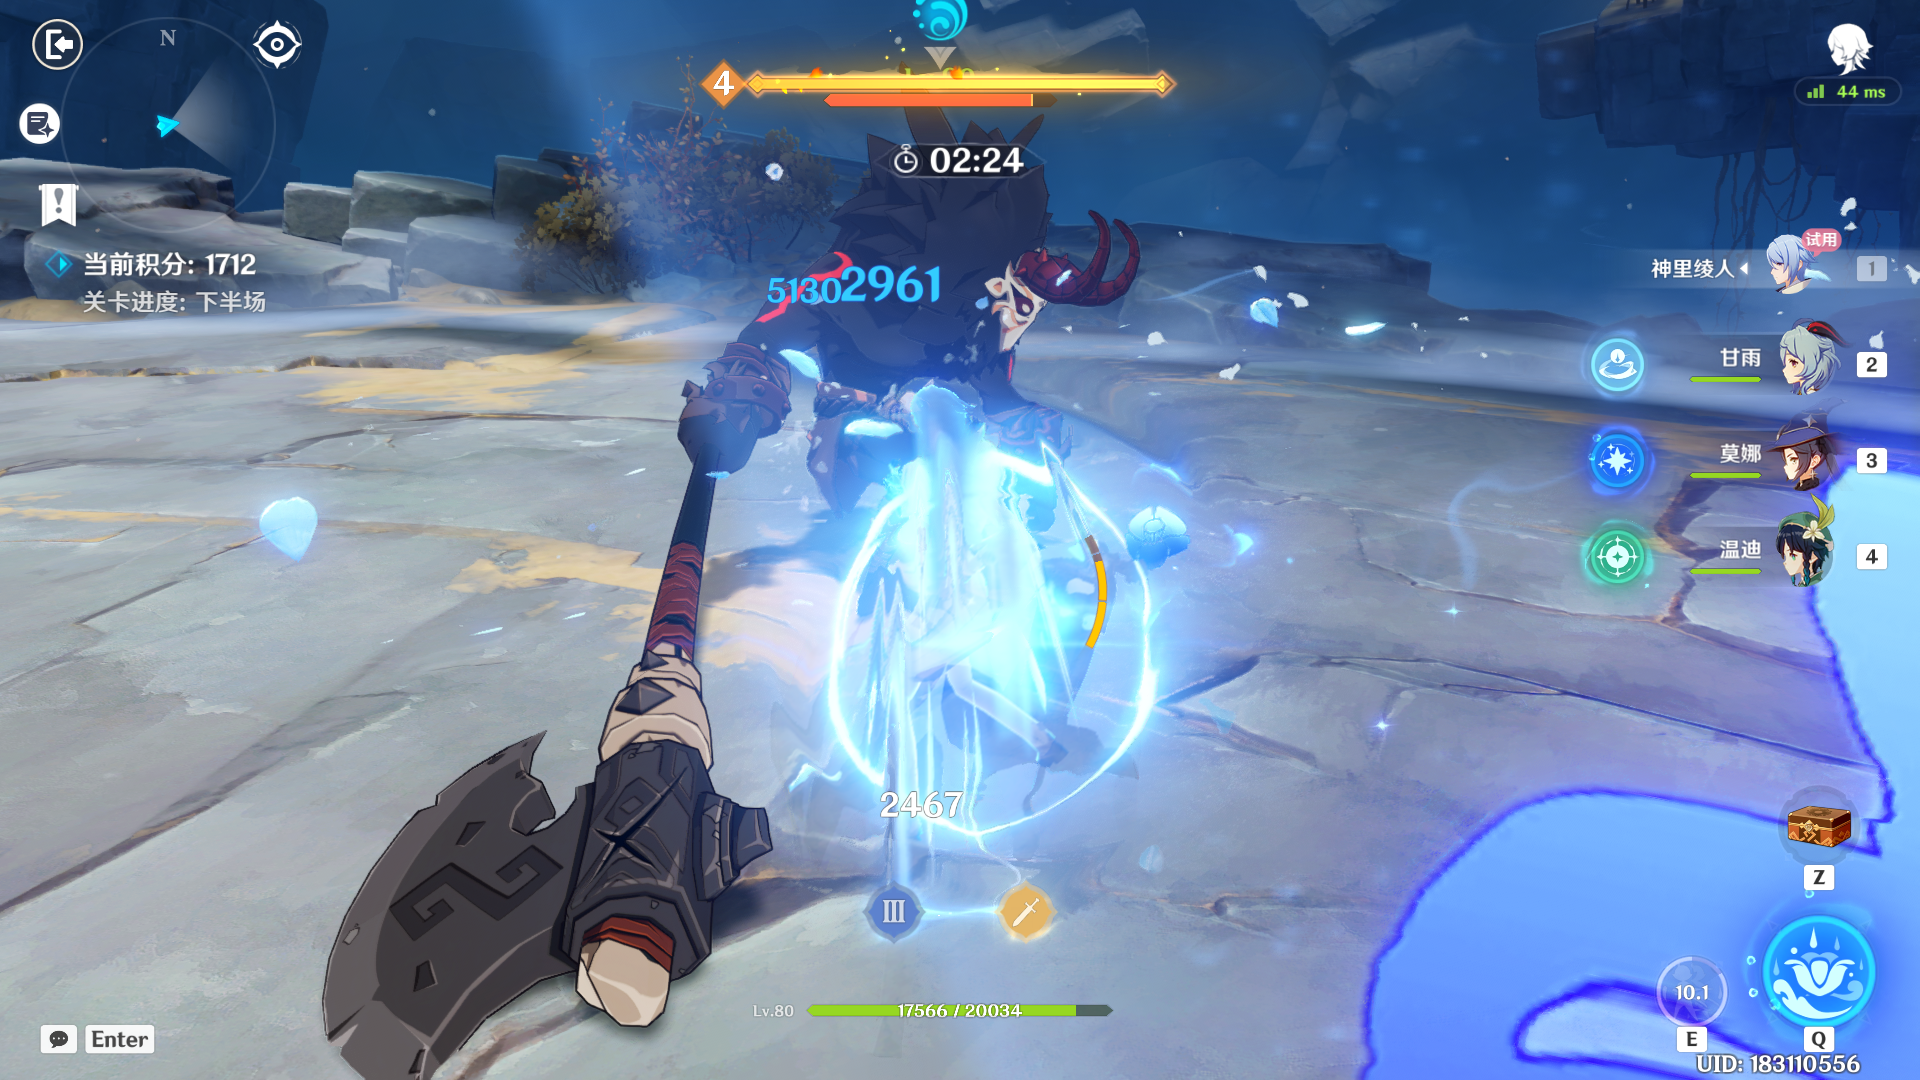bighili: (647, 88, 1133, 622)
